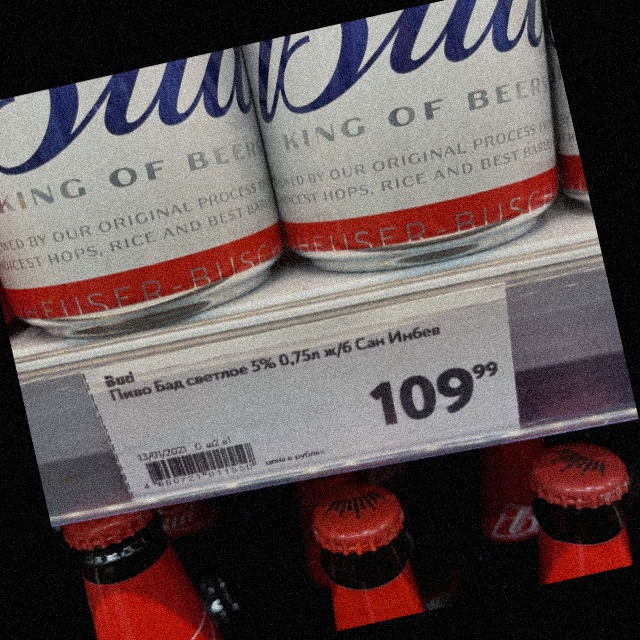barcode: (139, 437, 259, 493)
name: (103, 322, 443, 403)
price: (371, 360, 502, 427)
price_tag: (73, 278, 526, 504)
